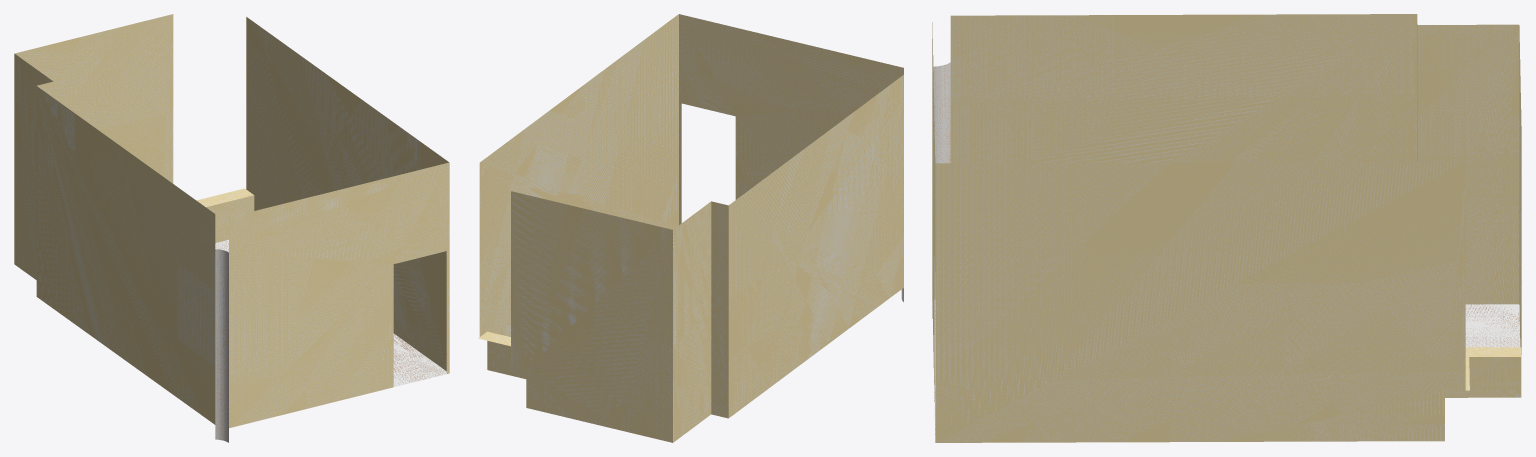
Rendered from DES019.obj.
The picture shows the model from 3 angles, left to right: view 1: azimuth 30°, elevation 25°; view 2: azimuth 150°, elevation 25°; view 3: azimuth 270°, elevation 25°; orthographic projection. The views are drawn at different scales.
Parts seen in each view (by area): view 1: Mesh1 DES019 Model; view 2: Mesh1 DES019 Model; view 3: Mesh1 DES019 Model.
Part boxes in pixels (bbox=[...]): Mesh1 DES019 Model: bbox=[14, 14, 449, 442]; Mesh1 DES019 Model: bbox=[478, 14, 903, 442]; Mesh1 DES019 Model: bbox=[932, 14, 1521, 442].
Bounding box in the file's own units: 4.13 × 3.85 × 6.88.
Materials: 4 (1 with a texture image).
